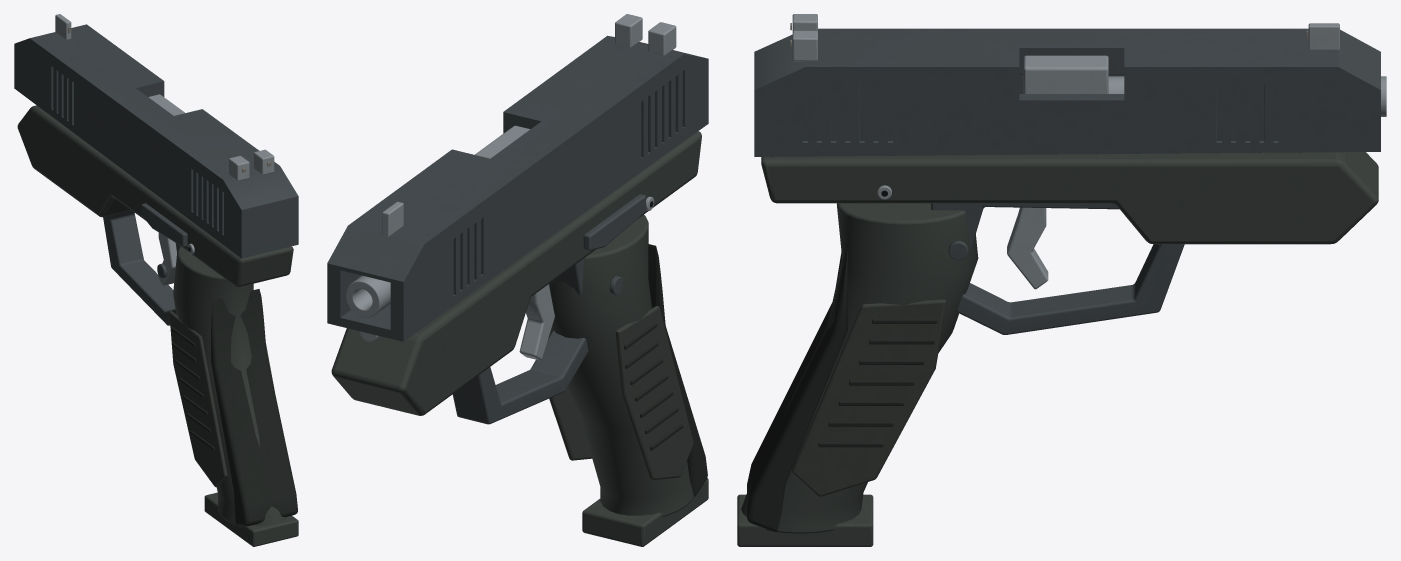
The model's file is pistol.glb.
3 views of the same model, side by side, from view 1: azimuth 30°, elevation 25°; view 2: azimuth 150°, elevation 25°; view 3: azimuth 270°, elevation 25° (orthographic). The views are drawn at different scales.
Visible parts, largest first — view 1: Pistol_Slide, Pistol_Static_Dense rubber, Pistol_Frame, Pistol_Grip, Pistol_Static_Treated graphite, Pistol_Static_Grip stipple, Pistol_MagazineFloorplate, Pistol_Trigger, Pistol_RearSight.001, Pistol_RearSight, Pistol_Static_Machined steel; view 2: Pistol_Slide, Pistol_Frame, Pistol_Grip, Pistol_Static_Grip stipple, Pistol_Static_Treated graphite, Pistol_Static_Dense rubber, Pistol_MagazineFloorplate, Pistol_Trigger, Pistol_Barrel, Pistol_Static_Machined steel, Pistol_RearSight, Pistol_RearSight.001 (+1 smaller); view 3: Pistol_Slide, Pistol_Frame, Pistol_Grip, Pistol_Static_Grip stipple, Pistol_Static_Dense rubber, Pistol_Static_Treated graphite, Pistol_Static_Machined steel, Pistol_MagazineFloorplate, Pistol_Trigger, Pistol_FrontSight, Pistol_RearSight.001.
Boxes of the visible parts, x1,y1,x2,y2 form: Pistol_Slide: [14, 24, 298, 258]; Pistol_Static_Dense rubber: [171, 289, 297, 526]; Pistol_Frame: [17, 105, 293, 287]; Pistol_Grip: [173, 246, 286, 527]; Pistol_Static_Treated graphite: [103, 203, 187, 325]; Pistol_Static_Grip stipple: [169, 311, 274, 487]; Pistol_MagazineFloorplate: [204, 492, 298, 546]; Pistol_Trigger: [158, 232, 176, 285]; Pistol_RearSight.001: [253, 149, 274, 174]; Pistol_RearSight: [228, 155, 249, 180]; Pistol_Static_Machined steel: [148, 94, 194, 254]; Pistol_Slide: [327, 35, 708, 341]; Pistol_Frame: [331, 131, 701, 415]; Pistol_Grip: [549, 215, 693, 516]; Pistol_Static_Grip stipple: [549, 306, 693, 480]; Pistol_Static_Treated graphite: [452, 194, 645, 424]; Pistol_Static_Dense rubber: [624, 244, 707, 496]; Pistol_MagazineFloorplate: [582, 478, 708, 546]; Pistol_Trigger: [519, 284, 554, 360]; Pistol_Barrel: [346, 275, 390, 317]; Pistol_Static_Machined steel: [360, 125, 654, 342]; Pistol_RearSight: [648, 22, 676, 55]; Pistol_RearSight.001: [615, 14, 642, 47]; Pistol_Slide: [754, 28, 1380, 156]; Pistol_Frame: [761, 152, 1378, 244]; Pistol_Grip: [741, 203, 978, 533]; Pistol_Static_Grip stipple: [792, 299, 946, 496]; Pistol_Static_Dense rubber: [747, 241, 937, 532]; Pistol_Static_Treated graphite: [930, 203, 1184, 334]; Pistol_Static_Machined steel: [877, 55, 1108, 199]; Pistol_MagazineFloorplate: [737, 494, 873, 546]; Pistol_Trigger: [1007, 207, 1048, 289]; Pistol_FrontSight: [1308, 23, 1339, 49]; Pistol_RearSight.001: [792, 30, 817, 61].
Size of the model in its own units: 0.04 by 0.1975 by 0.229.
Materials: 7 (7 with a texture image).
